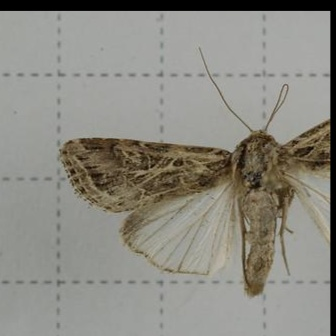Spodoptera litura: (59, 45, 330, 299)
